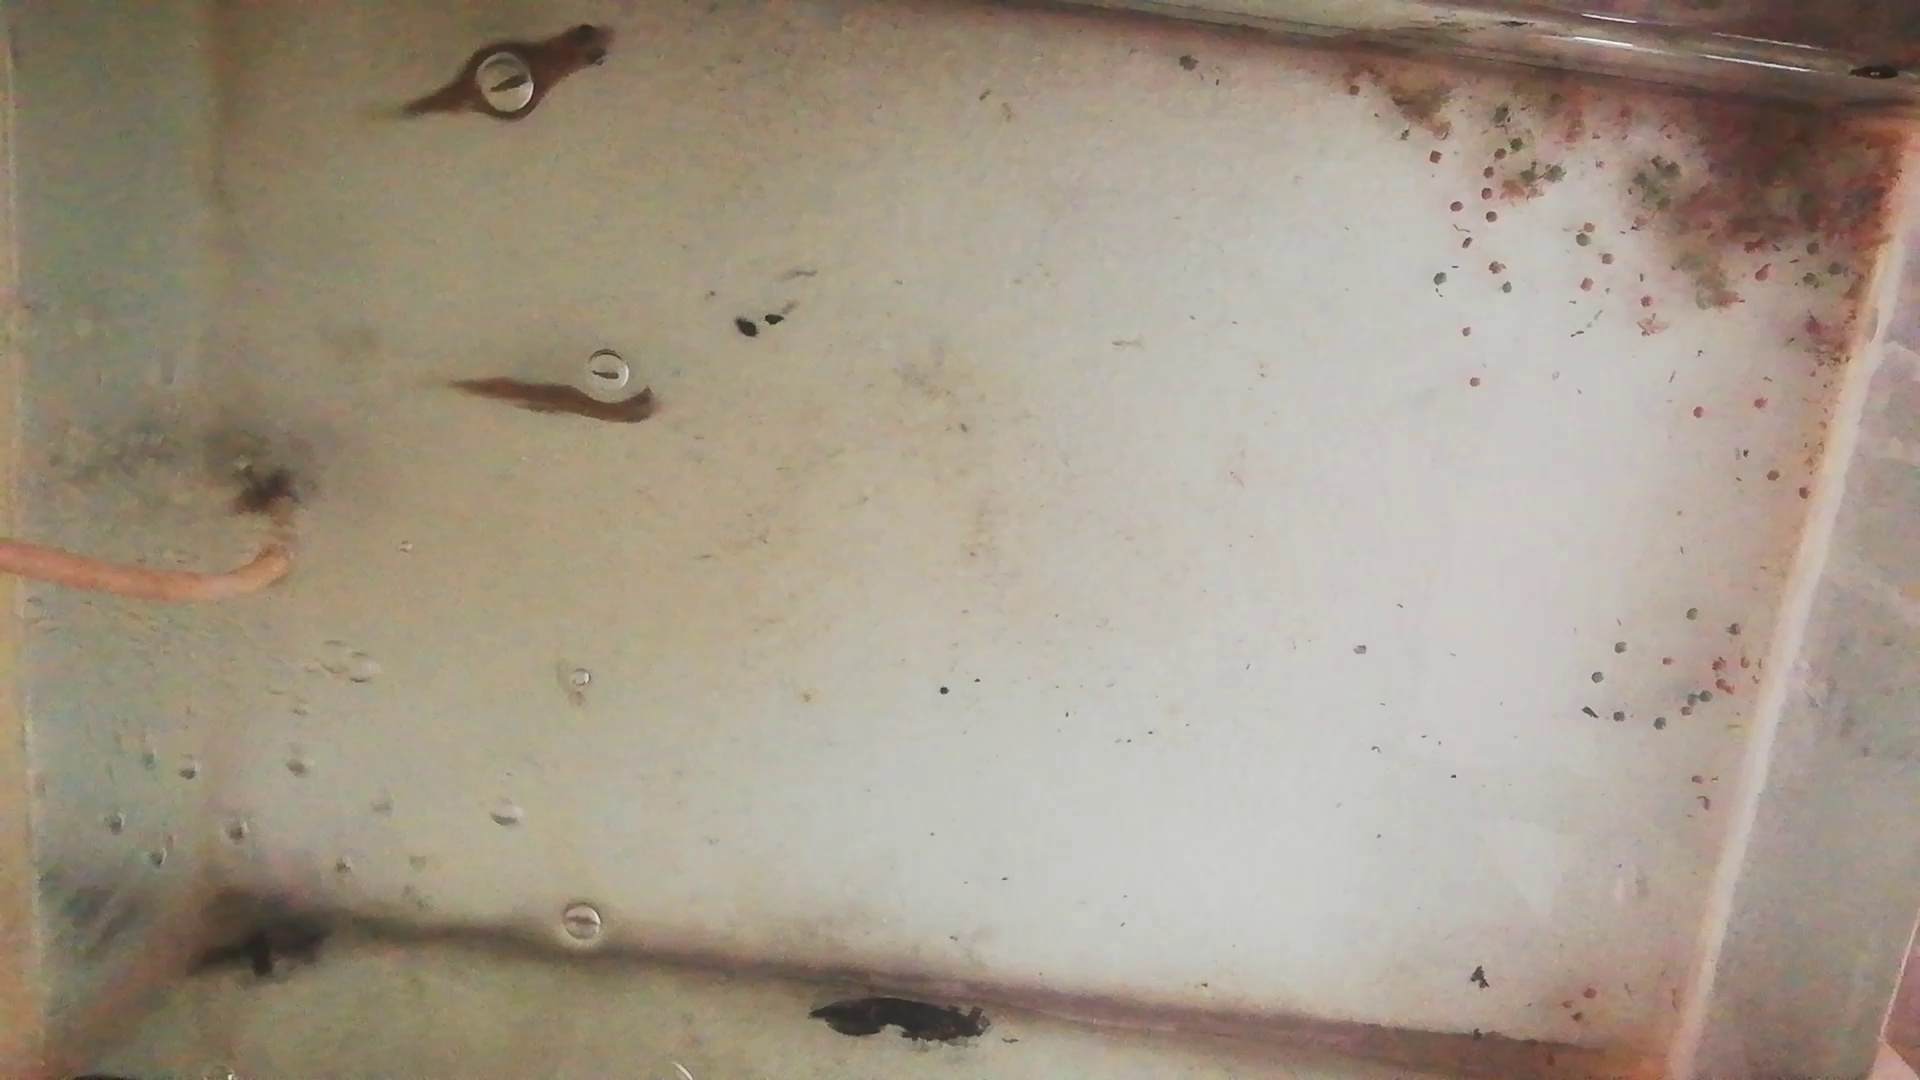fish: (407, 22, 618, 127), (456, 367, 666, 430)
